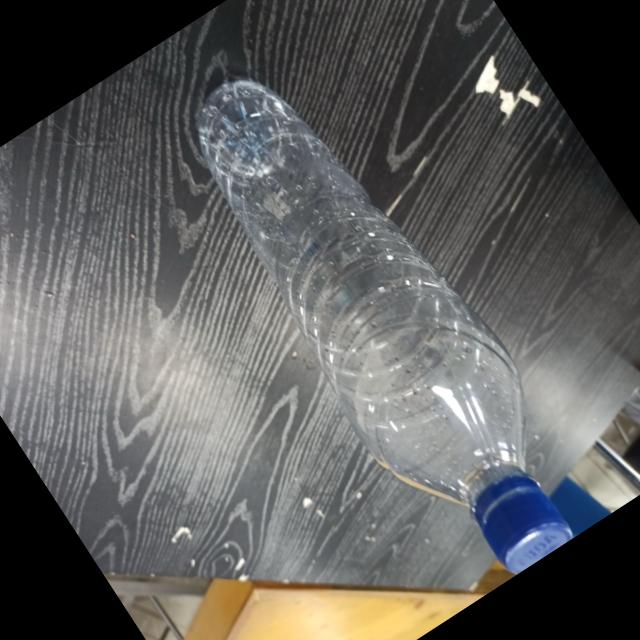BotolPlastik: (155, 31, 612, 606)
